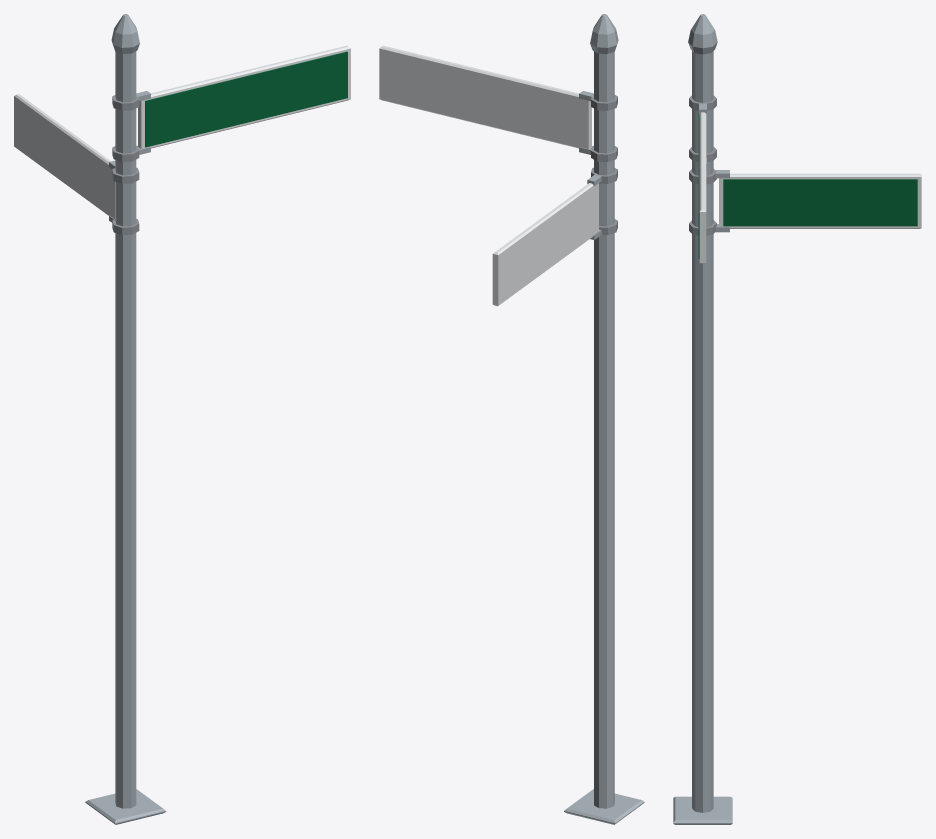
File: PROP_13.obj
The picture shows the model from 3 angles, left to right: view 1: azimuth 30°, elevation 25°; view 2: azimuth 150°, elevation 25°; view 3: azimuth 270°, elevation 25°; orthographic projection.
Visible parts, largest first — view 1: PROP_13__pole, PROP_13__sign_face_decal, PROP_13__blade_border, PROP_13__base, PROP_13__clamp; view 2: PROP_13__blade_border, PROP_13__pole, PROP_13__base, PROP_13__clamp; view 3: PROP_13__pole, PROP_13__sign_face_decal, PROP_13__blade_border, PROP_13__base, PROP_13__clamp.
Boxes of the visible parts, x1,y1,x2,y2 form: PROP_13__pole: (111, 14, 139, 808); PROP_13__sign_face_decal: (145, 51, 347, 147); PROP_13__blade_border: (14, 45, 350, 218); PROP_13__base: (85, 789, 166, 824); PROP_13__clamp: (112, 95, 139, 234); PROP_13__blade_border: (379, 45, 598, 306); PROP_13__pole: (590, 14, 618, 808); PROP_13__base: (564, 789, 644, 824); PROP_13__clamp: (591, 94, 617, 234); PROP_13__pole: (688, 14, 717, 812); PROP_13__sign_face_decal: (698, 113, 917, 258); PROP_13__blade_border: (699, 112, 921, 263); PROP_13__base: (673, 796, 732, 824); PROP_13__clamp: (689, 95, 716, 235).
Bounding box in the file's own units: 1.07 × 3.26 × 0.92.
